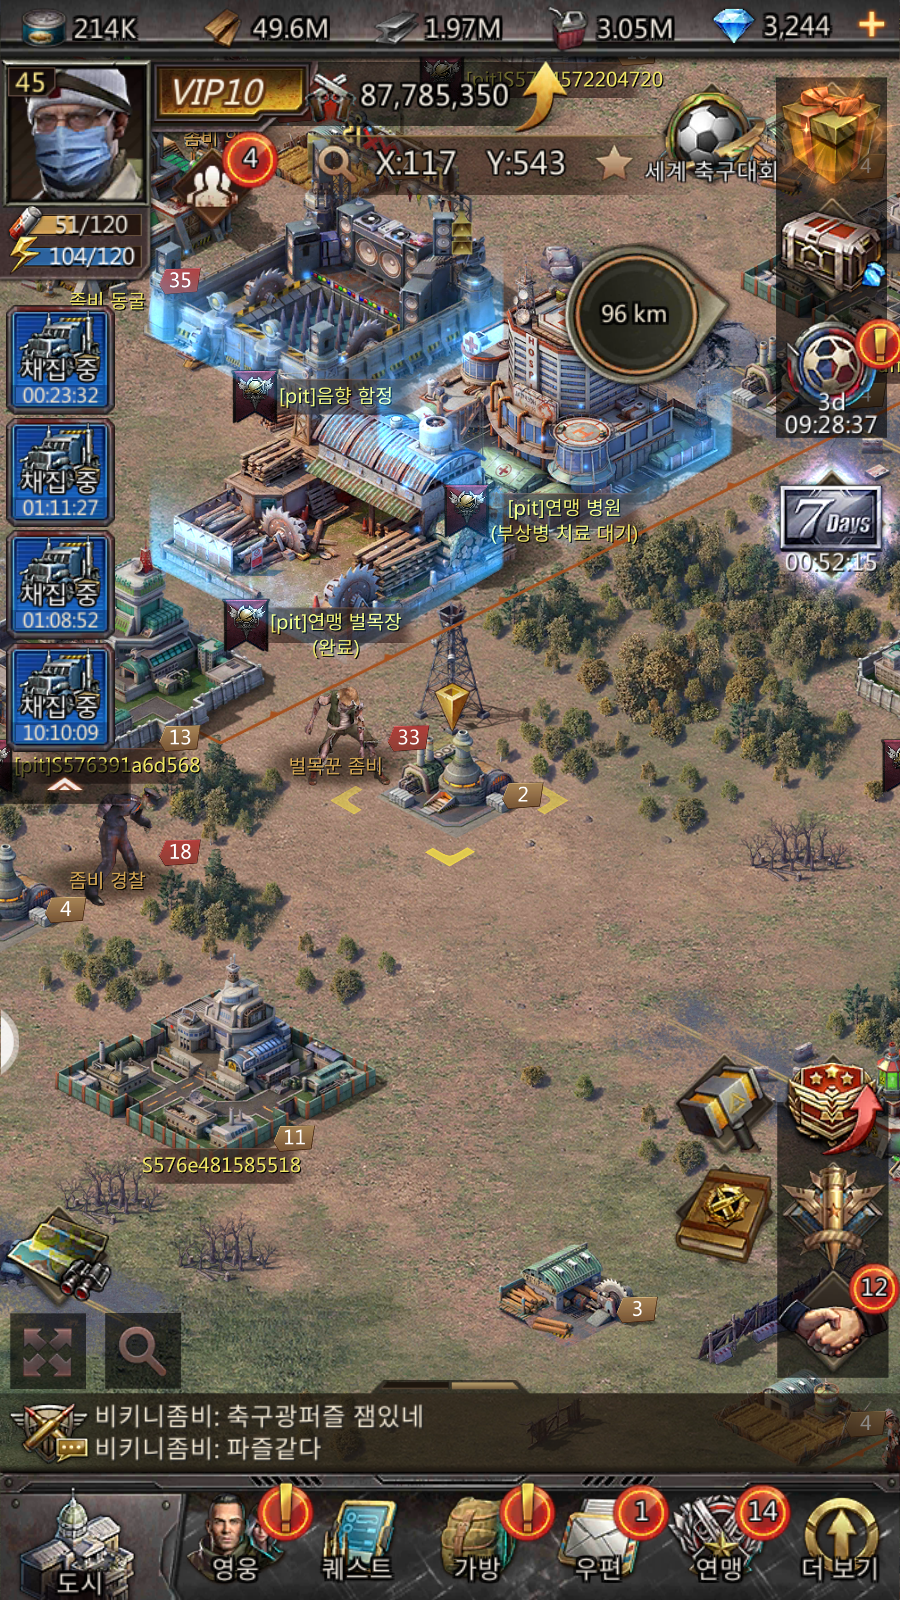city: (11, 1491, 182, 1600)
empty_steel: (316, 675, 585, 876)
open_panel: (98, 1305, 195, 1391)
troops_cnt_4: (164, 125, 285, 236)
